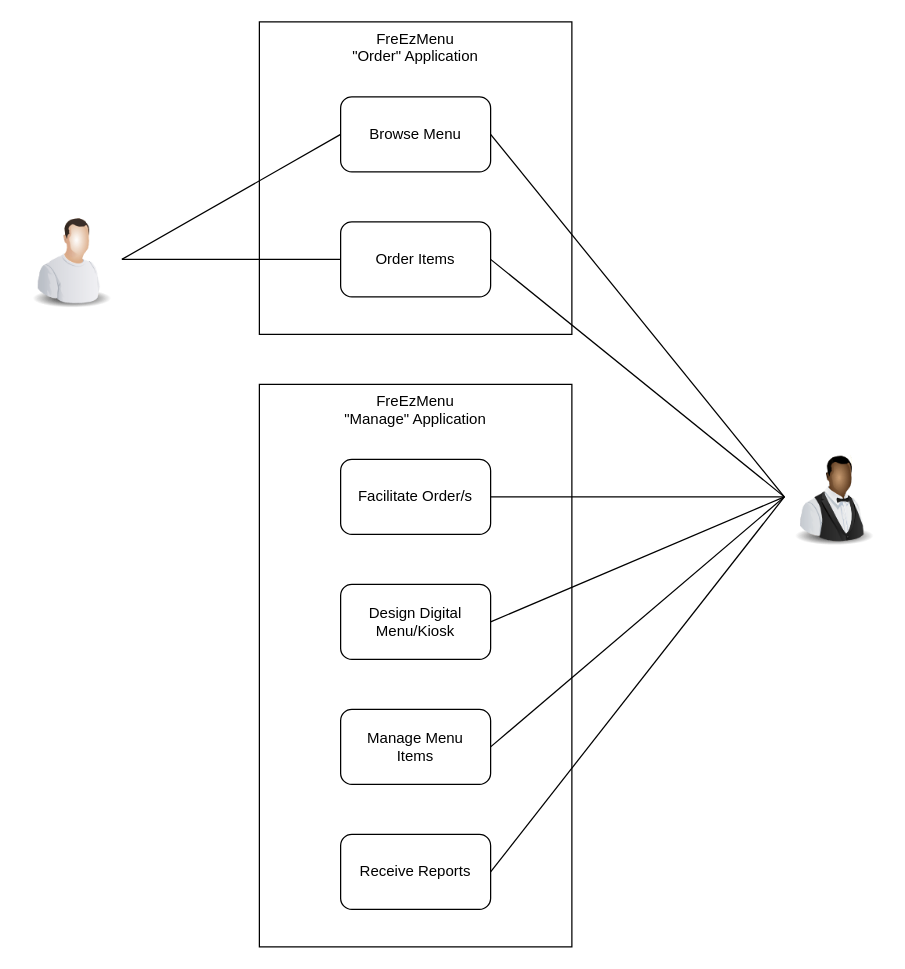
This 905x969 diagram has some shape labels left out. Here are the shapes that lost their labels. From the top down, the centre of each, then its label:
At point 71,259: "Customers".
At point 834,496: "Establishment Employee".
